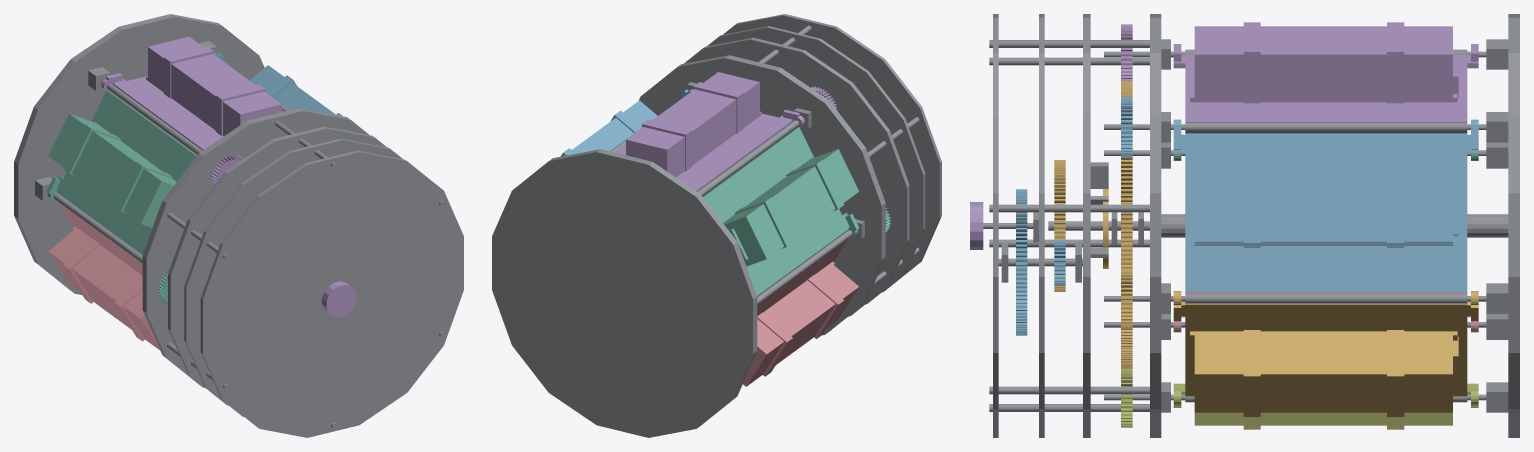
The model's file is display_research.glb.
3 renders of one model, left to right at view 1: azimuth 30°, elevation 25°; view 2: azimuth 150°, elevation 25°; view 3: azimuth 270°, elevation 25°, orthographic. The views are drawn at different scales.
Parts seen in each view (by area): view 1: fixed/support_plate3, fixed/base, fixed/roof, fixed/support_plate1, fixed/support_plate2, door3/panel, door2/doll, door3/doll, door4/doll, door2/panel, door1/doll, door4/panel (+9 smaller); view 2: fixed/base, fixed/roof, fixed/support_plate1, door3/panel, door2/doll, fixed/support_plate3, door3/doll, fixed/support_plate2, door4/doll, door2/panel, door1/doll, door4/panel (+8 smaller); view 3: door1/panel, door0/doll, door2/doll, door1/doll, door0/panel, door2/panel, fixed/base, fixed/roof, fixed/support_plate1, door5/doll, fixed/corner_tube0, fixed/corner_tube1 (+36 smaller).
Boxes of the visible parts, <box> form: fixed/support_plate3: <box>200,150,463,437</box>; fixed/base: <box>14,14,264,294</box>; fixed/roof: <box>142,108,368,387</box>; fixed/support_plate1: <box>168,126,386,405</box>; fixed/support_plate2: <box>184,138,402,416</box>; door3/panel: <box>57,90,196,254</box>; door2/doll: <box>148,36,281,134</box>; door3/doll: <box>48,113,176,227</box>; door4/doll: <box>48,230,160,350</box>; door2/panel: <box>114,76,283,150</box>; door1/doll: <box>250,65,335,114</box>; door4/panel: <box>58,202,142,275</box>; fixed/base: <box>492,149,757,437</box>; fixed/roof: <box>638,55,885,335</box>; fixed/support_plate1: <box>684,37,909,316</box>; door3/panel: <box>703,127,848,295</box>; door2/doll: <box>626,72,759,175</box>; fixed/support_plate3: <box>723,14,941,292</box>; door3/doll: <box>723,149,858,266</box>; fixed/support_plate2: <box>707,26,925,304</box>; door4/doll: <box>743,265,858,386</box>; door2/panel: <box>616,113,791,191</box>; door1/doll: <box>564,100,657,155</box>; door4/panel: <box>757,238,848,315</box>; door1/panel: <box>1185,133,1467,292</box>; door0/doll: <box>1194,335,1452,412</box>; door2/doll: <box>1194,26,1452,97</box>; door1/doll: <box>1194,174,1452,245</box>; door0/panel: <box>1185,303,1467,396</box>; door2/panel: <box>1185,54,1467,122</box>; fixed/base: <box>1508,14,1519,437</box>; fixed/roof: <box>1150,14,1161,437</box>; fixed/support_plate1: <box>1083,14,1090,437</box>; door5/doll: <box>1194,412,1452,425</box>; fixed/corner_tube0: <box>1185,294,1467,303</box>; fixed/corner_tube1: <box>1185,122,1467,131</box>.
Size of the model in its own units: 440 by 440 by 575.
